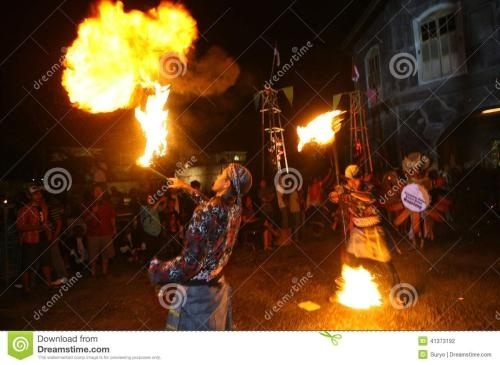fire: (61, 0, 200, 114), (134, 79, 172, 166), (295, 106, 344, 148), (335, 263, 380, 307)
